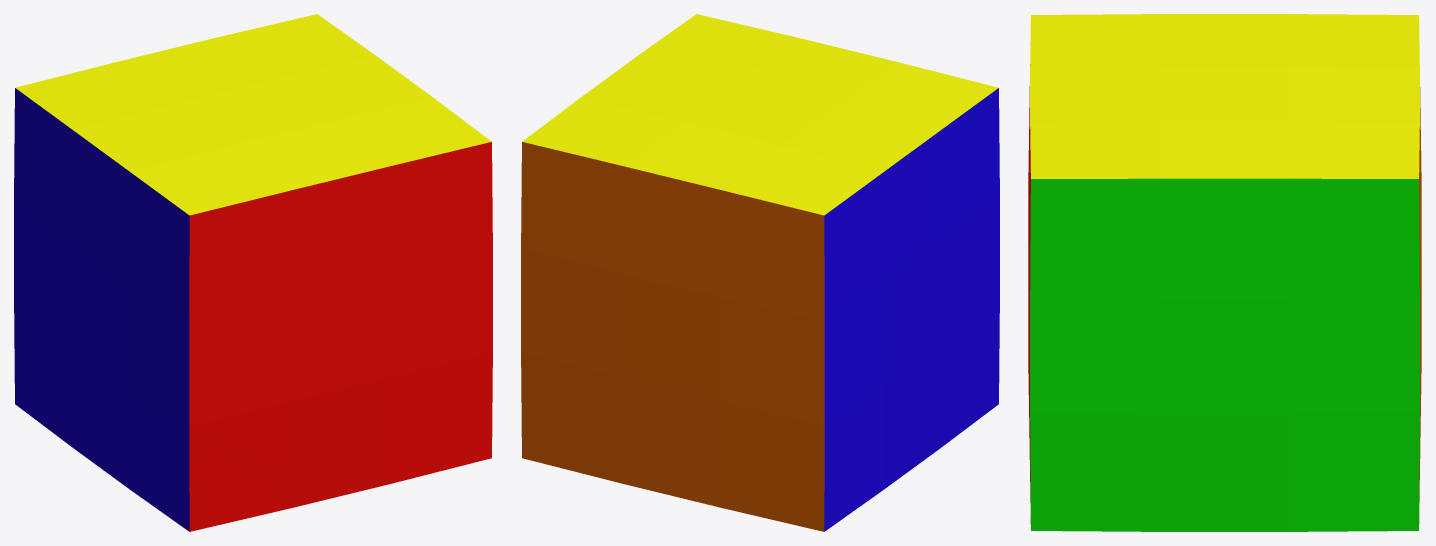
Rendered from PuzzleCubeHouse1.fbx.
The picture shows the model from 3 angles, left to right: view 1: azimuth 30°, elevation 25°; view 2: azimuth 150°, elevation 25°; view 3: azimuth 270°, elevation 25°; orthographic projection. The views are drawn at different scales.
Parts seen in each view (by area): view 1: BRU, BRD, BR, BLU, BU, FRU, RU, BLD, BD, BL, B, FRD (+7 smaller); view 2: FRU, FRD, FR, FLU, FU, BRU, RU, FLD, FD, FL, F, BRD (+7 smaller); view 3: BLU, FLU, LU, BLD, FLD, BL, FL, LD, L, BU, FU, BRU (+3 smaller).
Boxes of the visible parts, x1,y1,x2,y2 form: BRU: (128, 145, 292, 322); BRD: (128, 383, 292, 531); BR: (128, 280, 292, 425); BLU: (332, 98, 492, 273); BU: (233, 121, 391, 297); FRU: (14, 62, 174, 237); RU: (71, 104, 232, 278); BLD: (390, 352, 492, 483); BD: (291, 377, 391, 507); BL: (391, 248, 492, 377); B: (292, 274, 391, 401); FRD: (14, 298, 72, 447); FRU: (721, 145, 885, 322); FRD: (721, 383, 885, 531); FR: (721, 280, 885, 425); FLU: (521, 98, 681, 273); FU: (622, 121, 780, 297); BRU: (839, 62, 999, 237); RU: (781, 104, 942, 278); FLD: (521, 352, 623, 483); FD: (622, 377, 722, 507); FL: (521, 248, 622, 377); F: (622, 274, 721, 401); BRD: (941, 298, 999, 447); BLU: (1028, 121, 1161, 298); FLU: (1288, 121, 1421, 298); LU: (1161, 121, 1288, 298); BLD: (1028, 365, 1161, 531); FLD: (1288, 365, 1421, 531); BL: (1028, 250, 1161, 413); FL: (1288, 250, 1421, 413); LD: (1161, 413, 1288, 531); L: (1161, 298, 1288, 413); BU: (1028, 68, 1161, 225); FU: (1288, 68, 1421, 225); BRU: (1029, 14, 1161, 129).
Bounding box in the file's own units: 1323 × 1323 × 1323.
